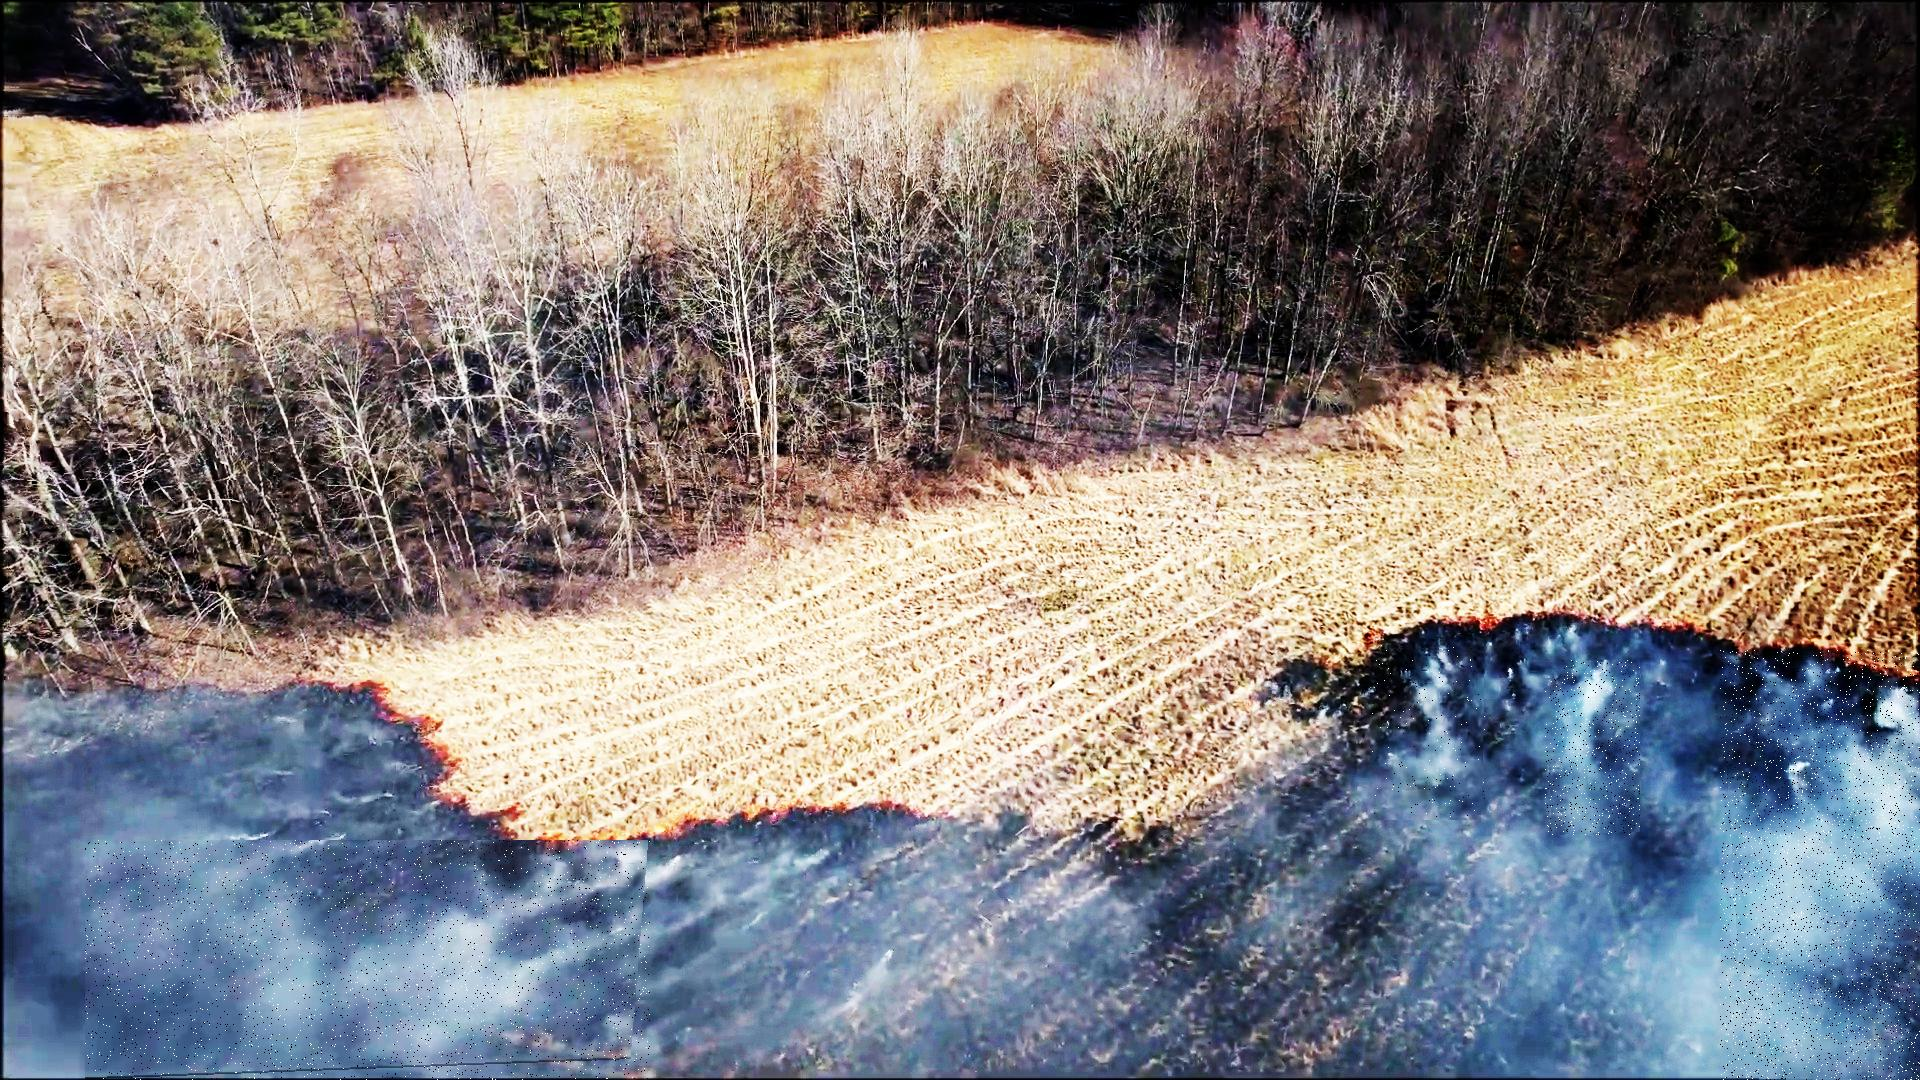smoke: (84, 840, 650, 1080), (1720, 650, 1920, 1080), (1370, 645, 1485, 820), (1545, 661, 1640, 835)
